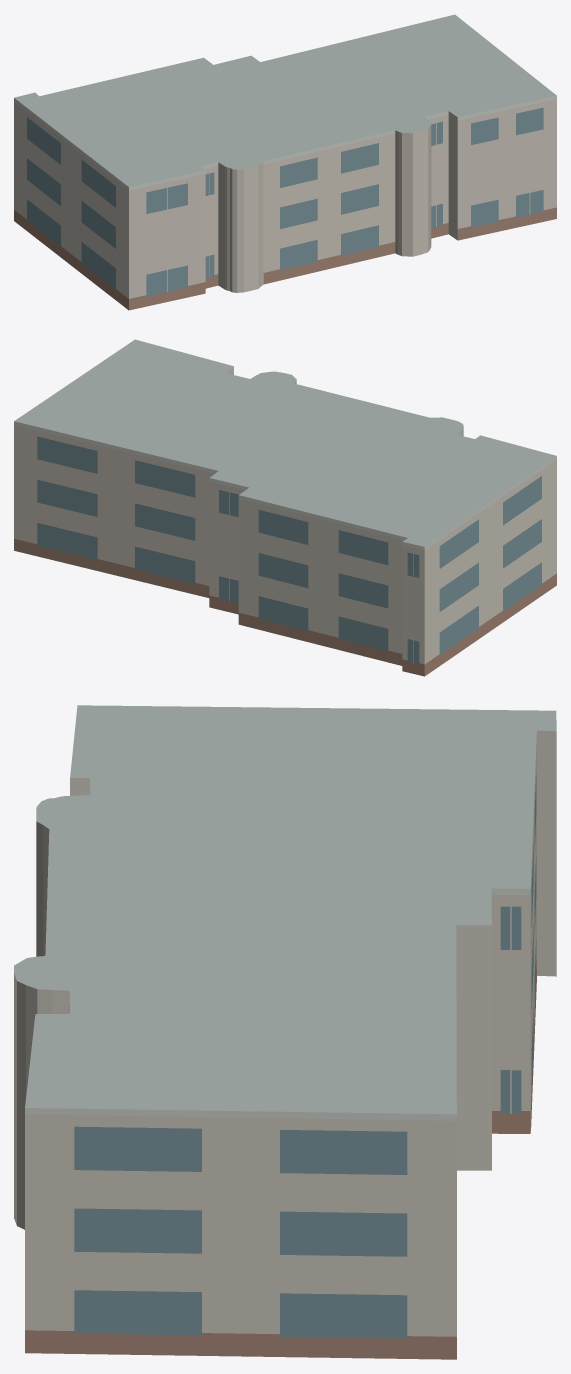
The model's file is survey-upis-33012827.glb.
3 renders of one model, top to bottom at view 1: azimuth 30°, elevation 25°; view 2: azimuth 150°, elevation 25°; view 3: azimuth 270°, elevation 25°, orthographic. The views are drawn at different scales.
Parts seen in each view (by area): view 1: survey-upis-33012827.tmp; view 2: survey-upis-33012827.tmp; view 3: survey-upis-33012827.tmp.
Boxes of the visible parts, box(x1,y1,x2,y2) form: survey-upis-33012827.tmp: box(14, 14, 556, 310); survey-upis-33012827.tmp: box(14, 339, 556, 676); survey-upis-33012827.tmp: box(14, 705, 556, 1359).
Bounding box in the file's own units: 32.74 × 9.15 × 18.36.
